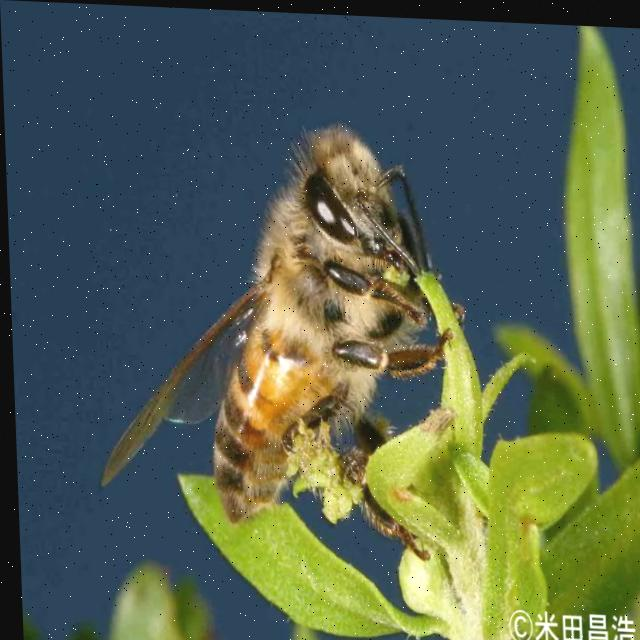Apis-mellifera-scutellata: (84, 96, 478, 574)
